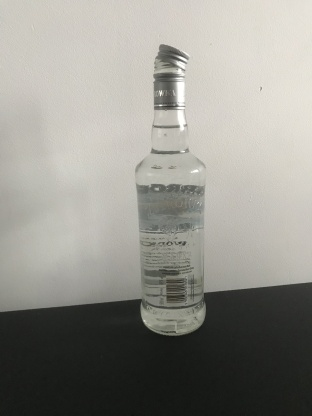nakretka: (151, 41, 190, 111)
